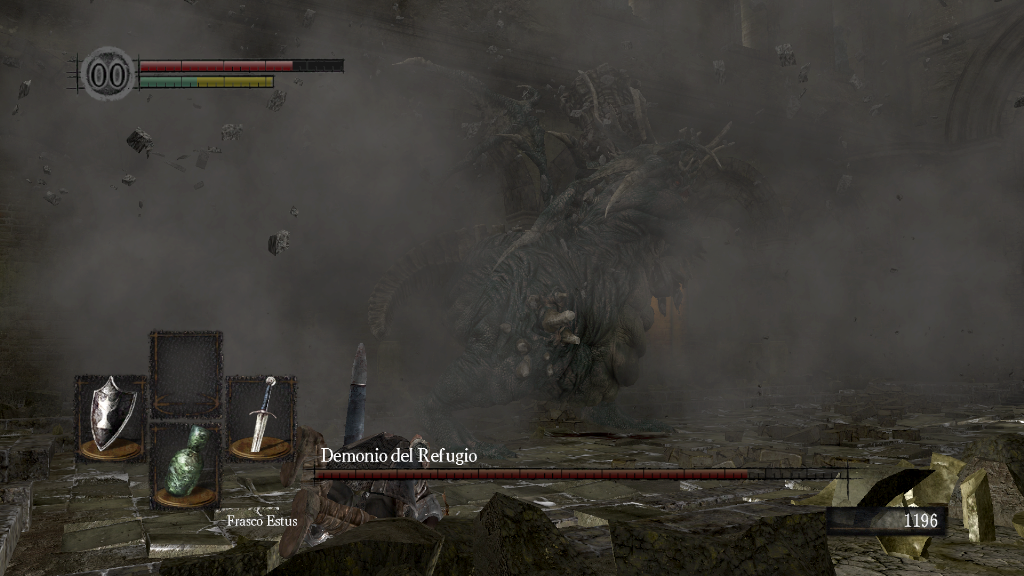asylumDemon: (359, 56, 763, 432)
bossHP: (314, 469, 847, 479)
health: (138, 58, 343, 71)
humanity: (80, 45, 136, 102)
souls: (825, 506, 945, 536)
stamina: (138, 74, 274, 88)
